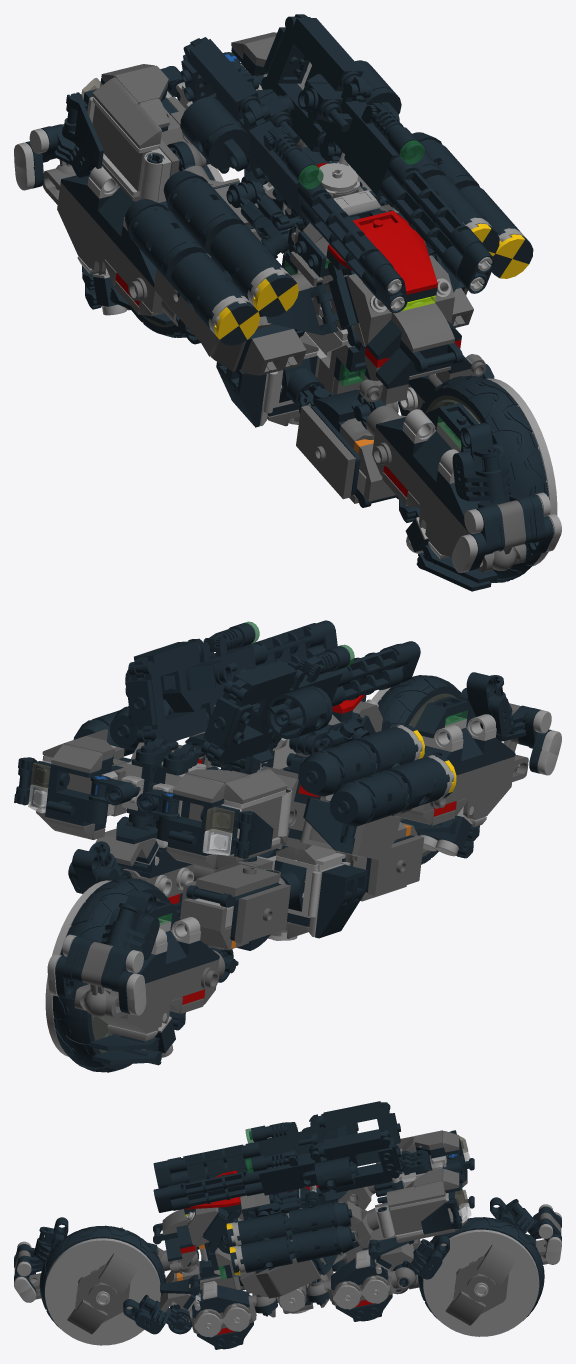
Rendered from rv-9625-cyclone-rover.dae.
3 views of the same model, one above another, from view 1: azimuth 30°, elevation 25°; view 2: azimuth 150°, elevation 25°; view 3: azimuth 270°, elevation 25° (orthographic). The views are drawn at different scales.
Size of the model in its own units: 301 by 755 by 345.
